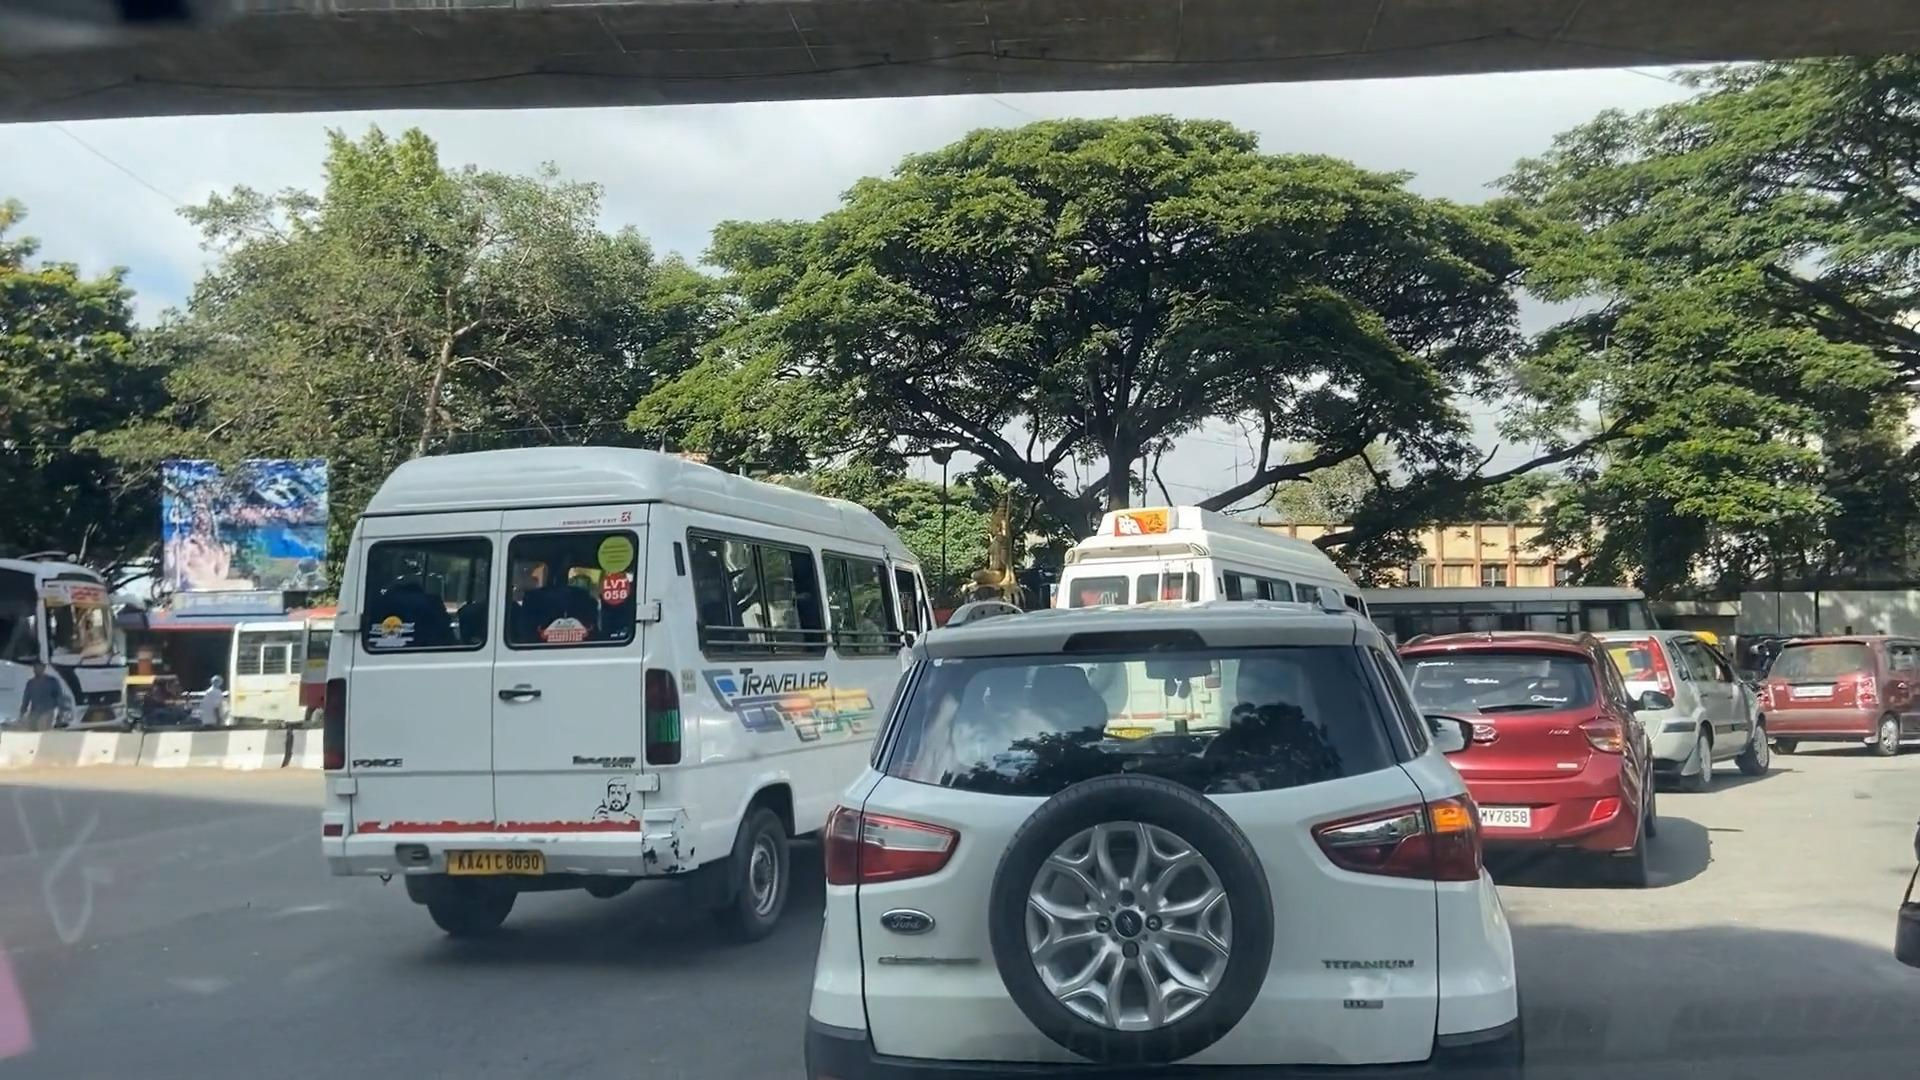HMV: (353, 473, 887, 902)
LMV: (906, 608, 1515, 1080), (1433, 638, 1655, 864)
